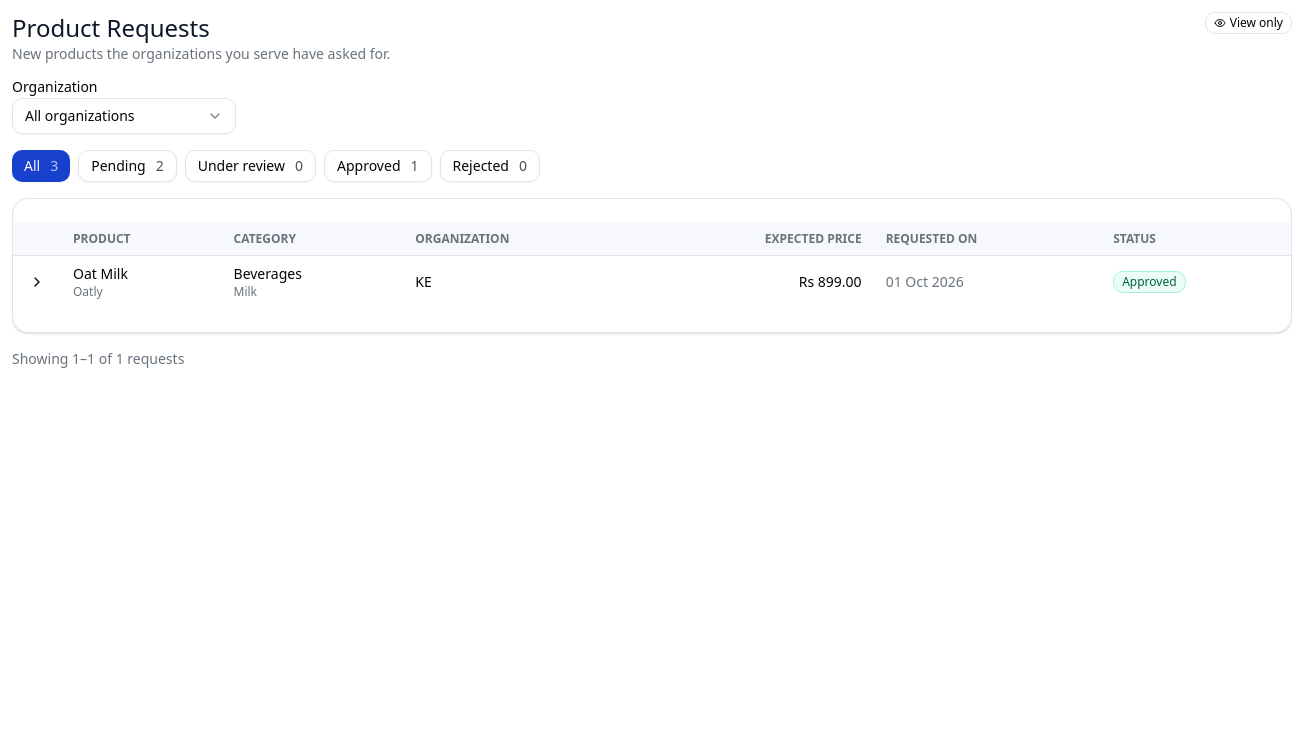
Product Requests › opens a request's details as plain text, never as a link
This screenshot has width=1292, height=732.
Click the button named "Show details" at (37, 282), box x1=25 y1=270 x2=49 y2=294
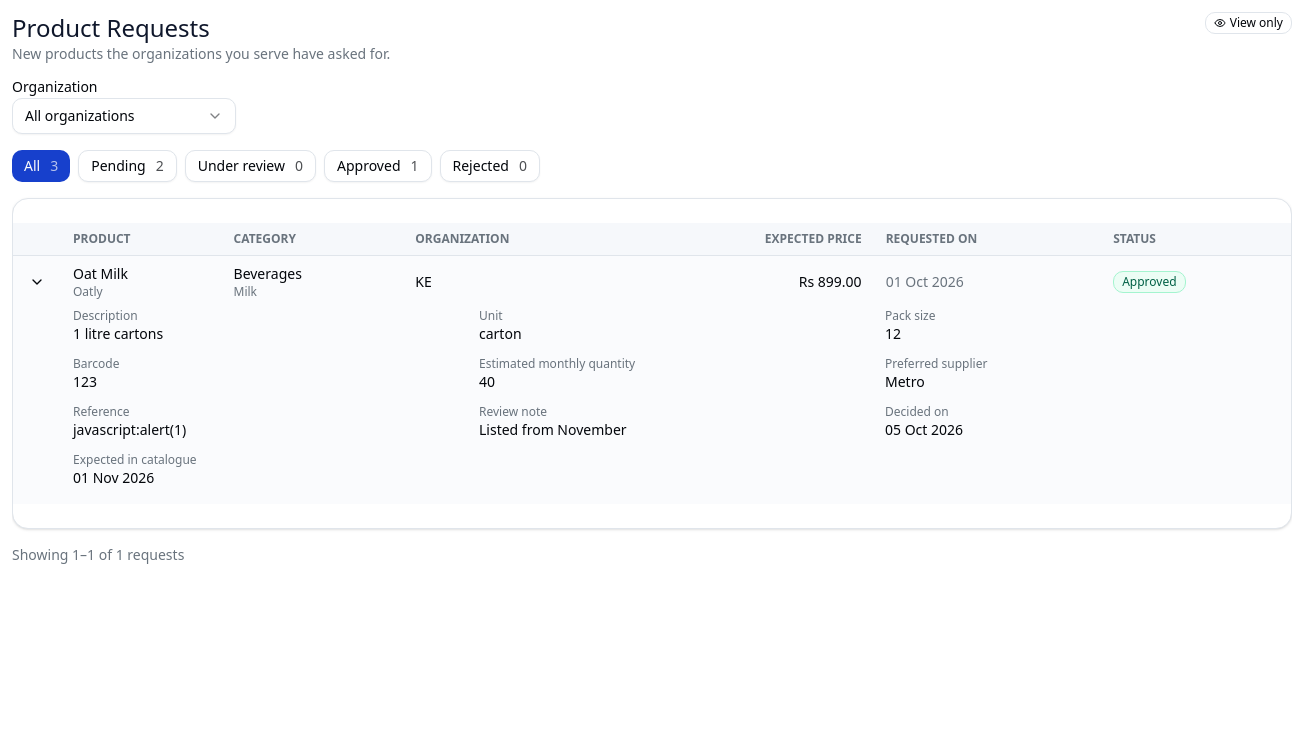
Check: the text "Listed from November" is shown, box x1=479 y1=420 x2=627 y2=439
